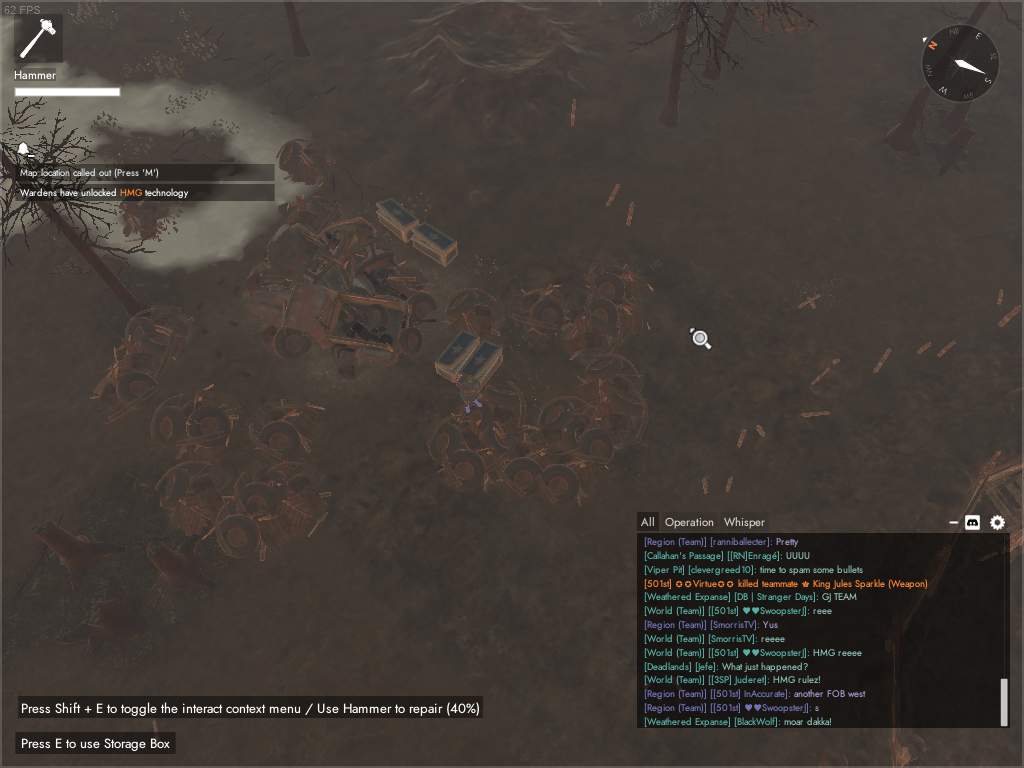player: (452, 372, 483, 417)
scrap: (427, 404, 610, 511), (86, 301, 202, 423), (217, 465, 336, 568), (537, 372, 652, 464), (568, 258, 655, 363), (151, 380, 243, 465), (241, 394, 326, 472), (157, 454, 231, 539), (514, 277, 588, 346), (440, 281, 510, 344), (114, 181, 176, 242), (273, 186, 345, 237), (276, 133, 340, 189)
scrapyard: (239, 209, 442, 379)
storage_box: (430, 326, 483, 387), (405, 220, 462, 270), (457, 336, 507, 391), (370, 194, 423, 244)
